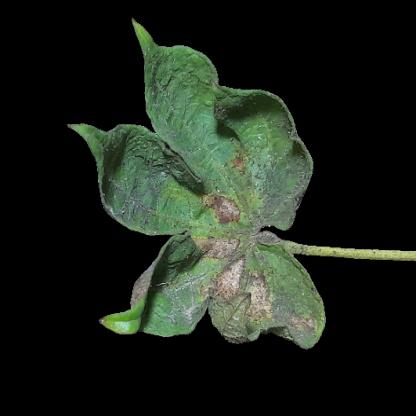curl_stage2: (146, 49, 204, 84)
sooty: (206, 235, 279, 338), (103, 153, 187, 225), (251, 152, 305, 224)
